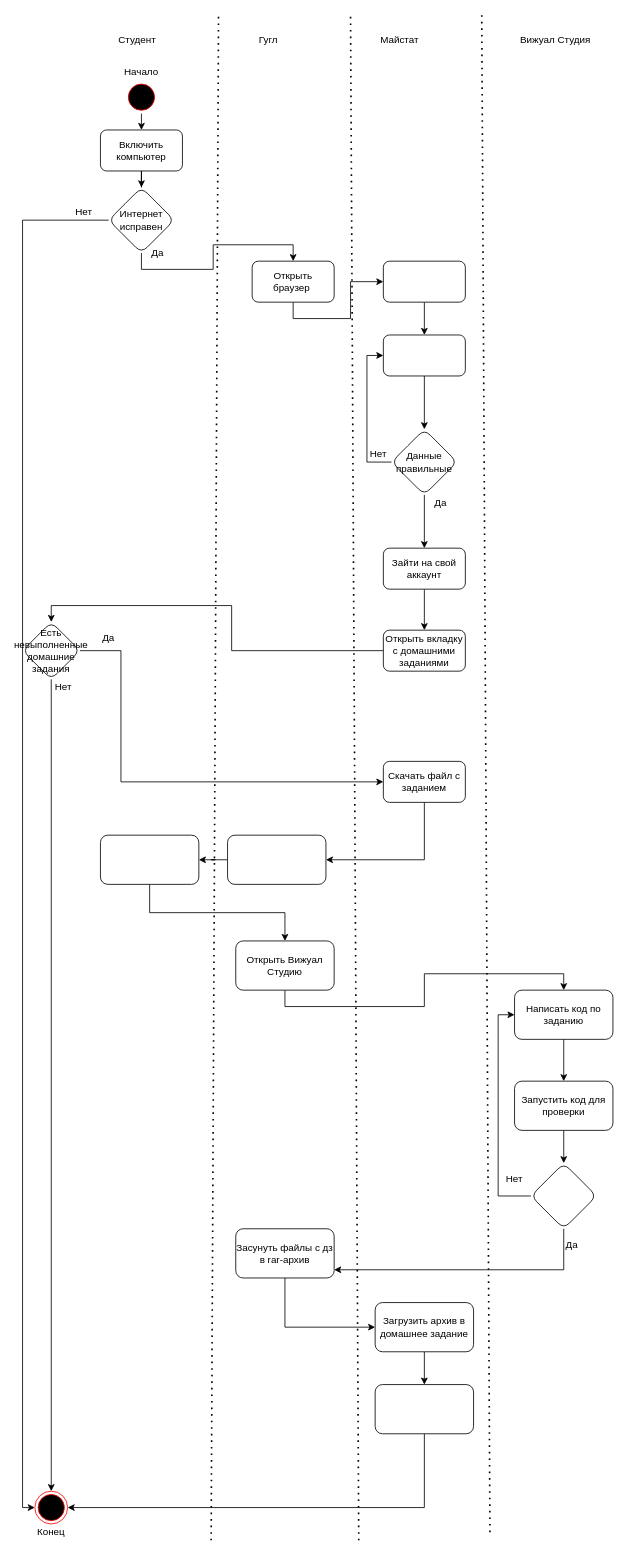
This 627x1556 diagram has some shape labels left out. Each missing label, with the box of its shape:
Ввести логин и пароль: (383, 334, 465, 376)
Зайти на сайт майстат: (383, 260, 465, 302)
Код отработал правильно: (530, 1162, 597, 1229)
Открыть файл: (227, 834, 326, 884)
Отправить задание: (374, 1384, 474, 1434)
Прочитать задание: (100, 834, 199, 884)
